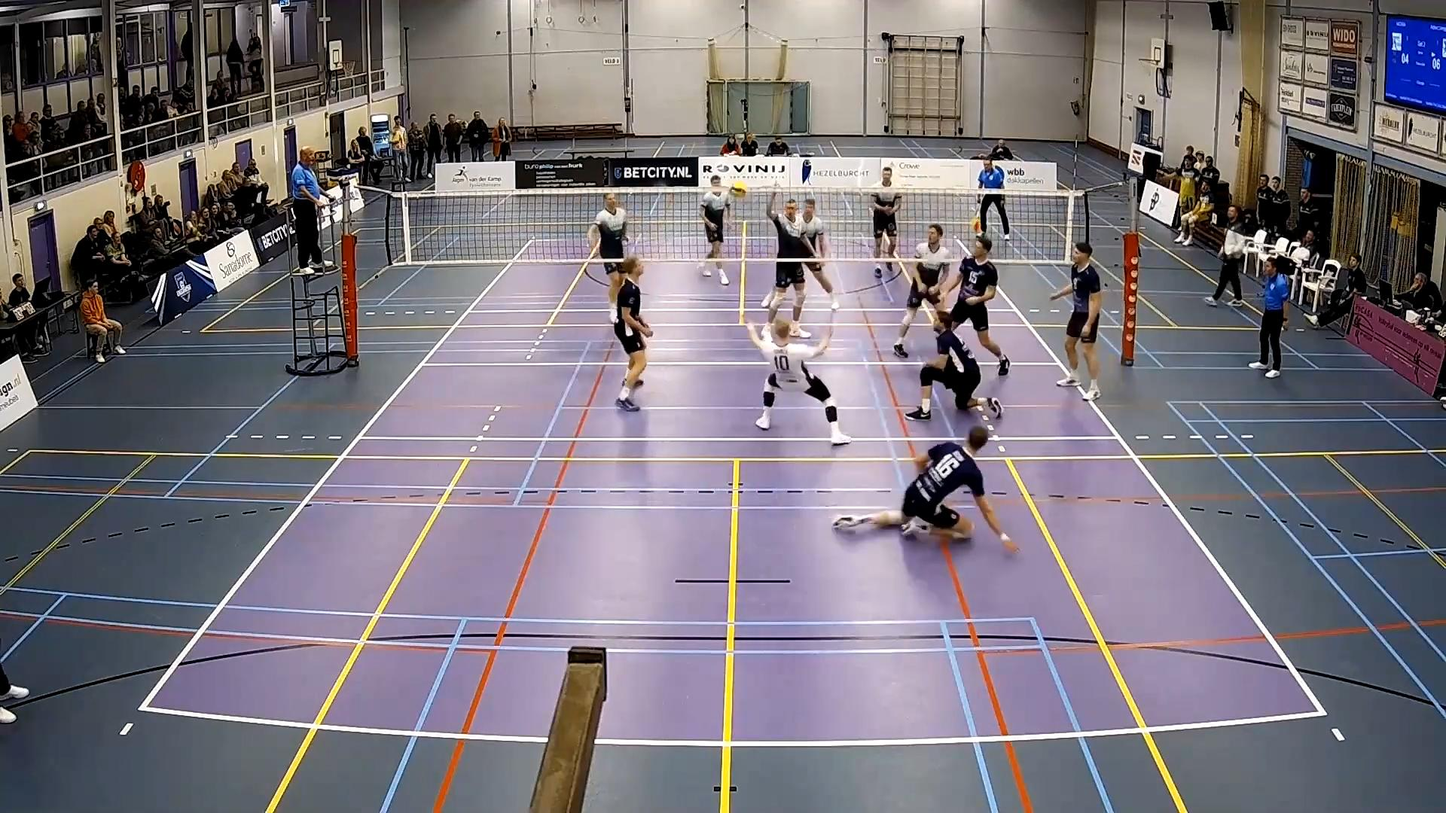difesa: (744, 298, 854, 446)
